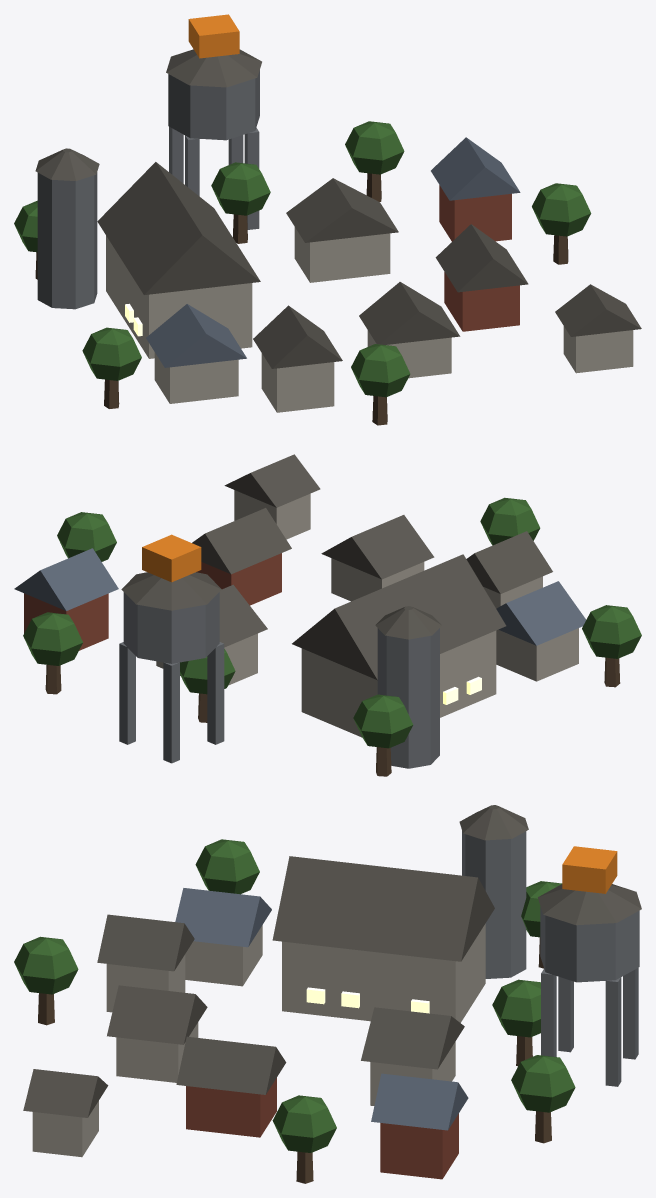
File: overworld-settlement-north-american-rural.glb
The picture shows the model from 3 angles, top to bottom: view 1: azimuth 30°, elevation 25°; view 2: azimuth 150°, elevation 25°; view 3: azimuth 270°, elevation 25°; orthographic projection. The views are drawn at different scales.
Visible parts, largest first — view 1: settlement; view 2: settlement; view 3: settlement.
Part boxes in pixels (x1,y1,x2,y2): settlement: [14, 14, 641, 425]; settlement: [14, 454, 641, 776]; settlement: [14, 805, 641, 1183].
Size of the model in its own units: 0.5218 by 0.179 by 0.4888.
